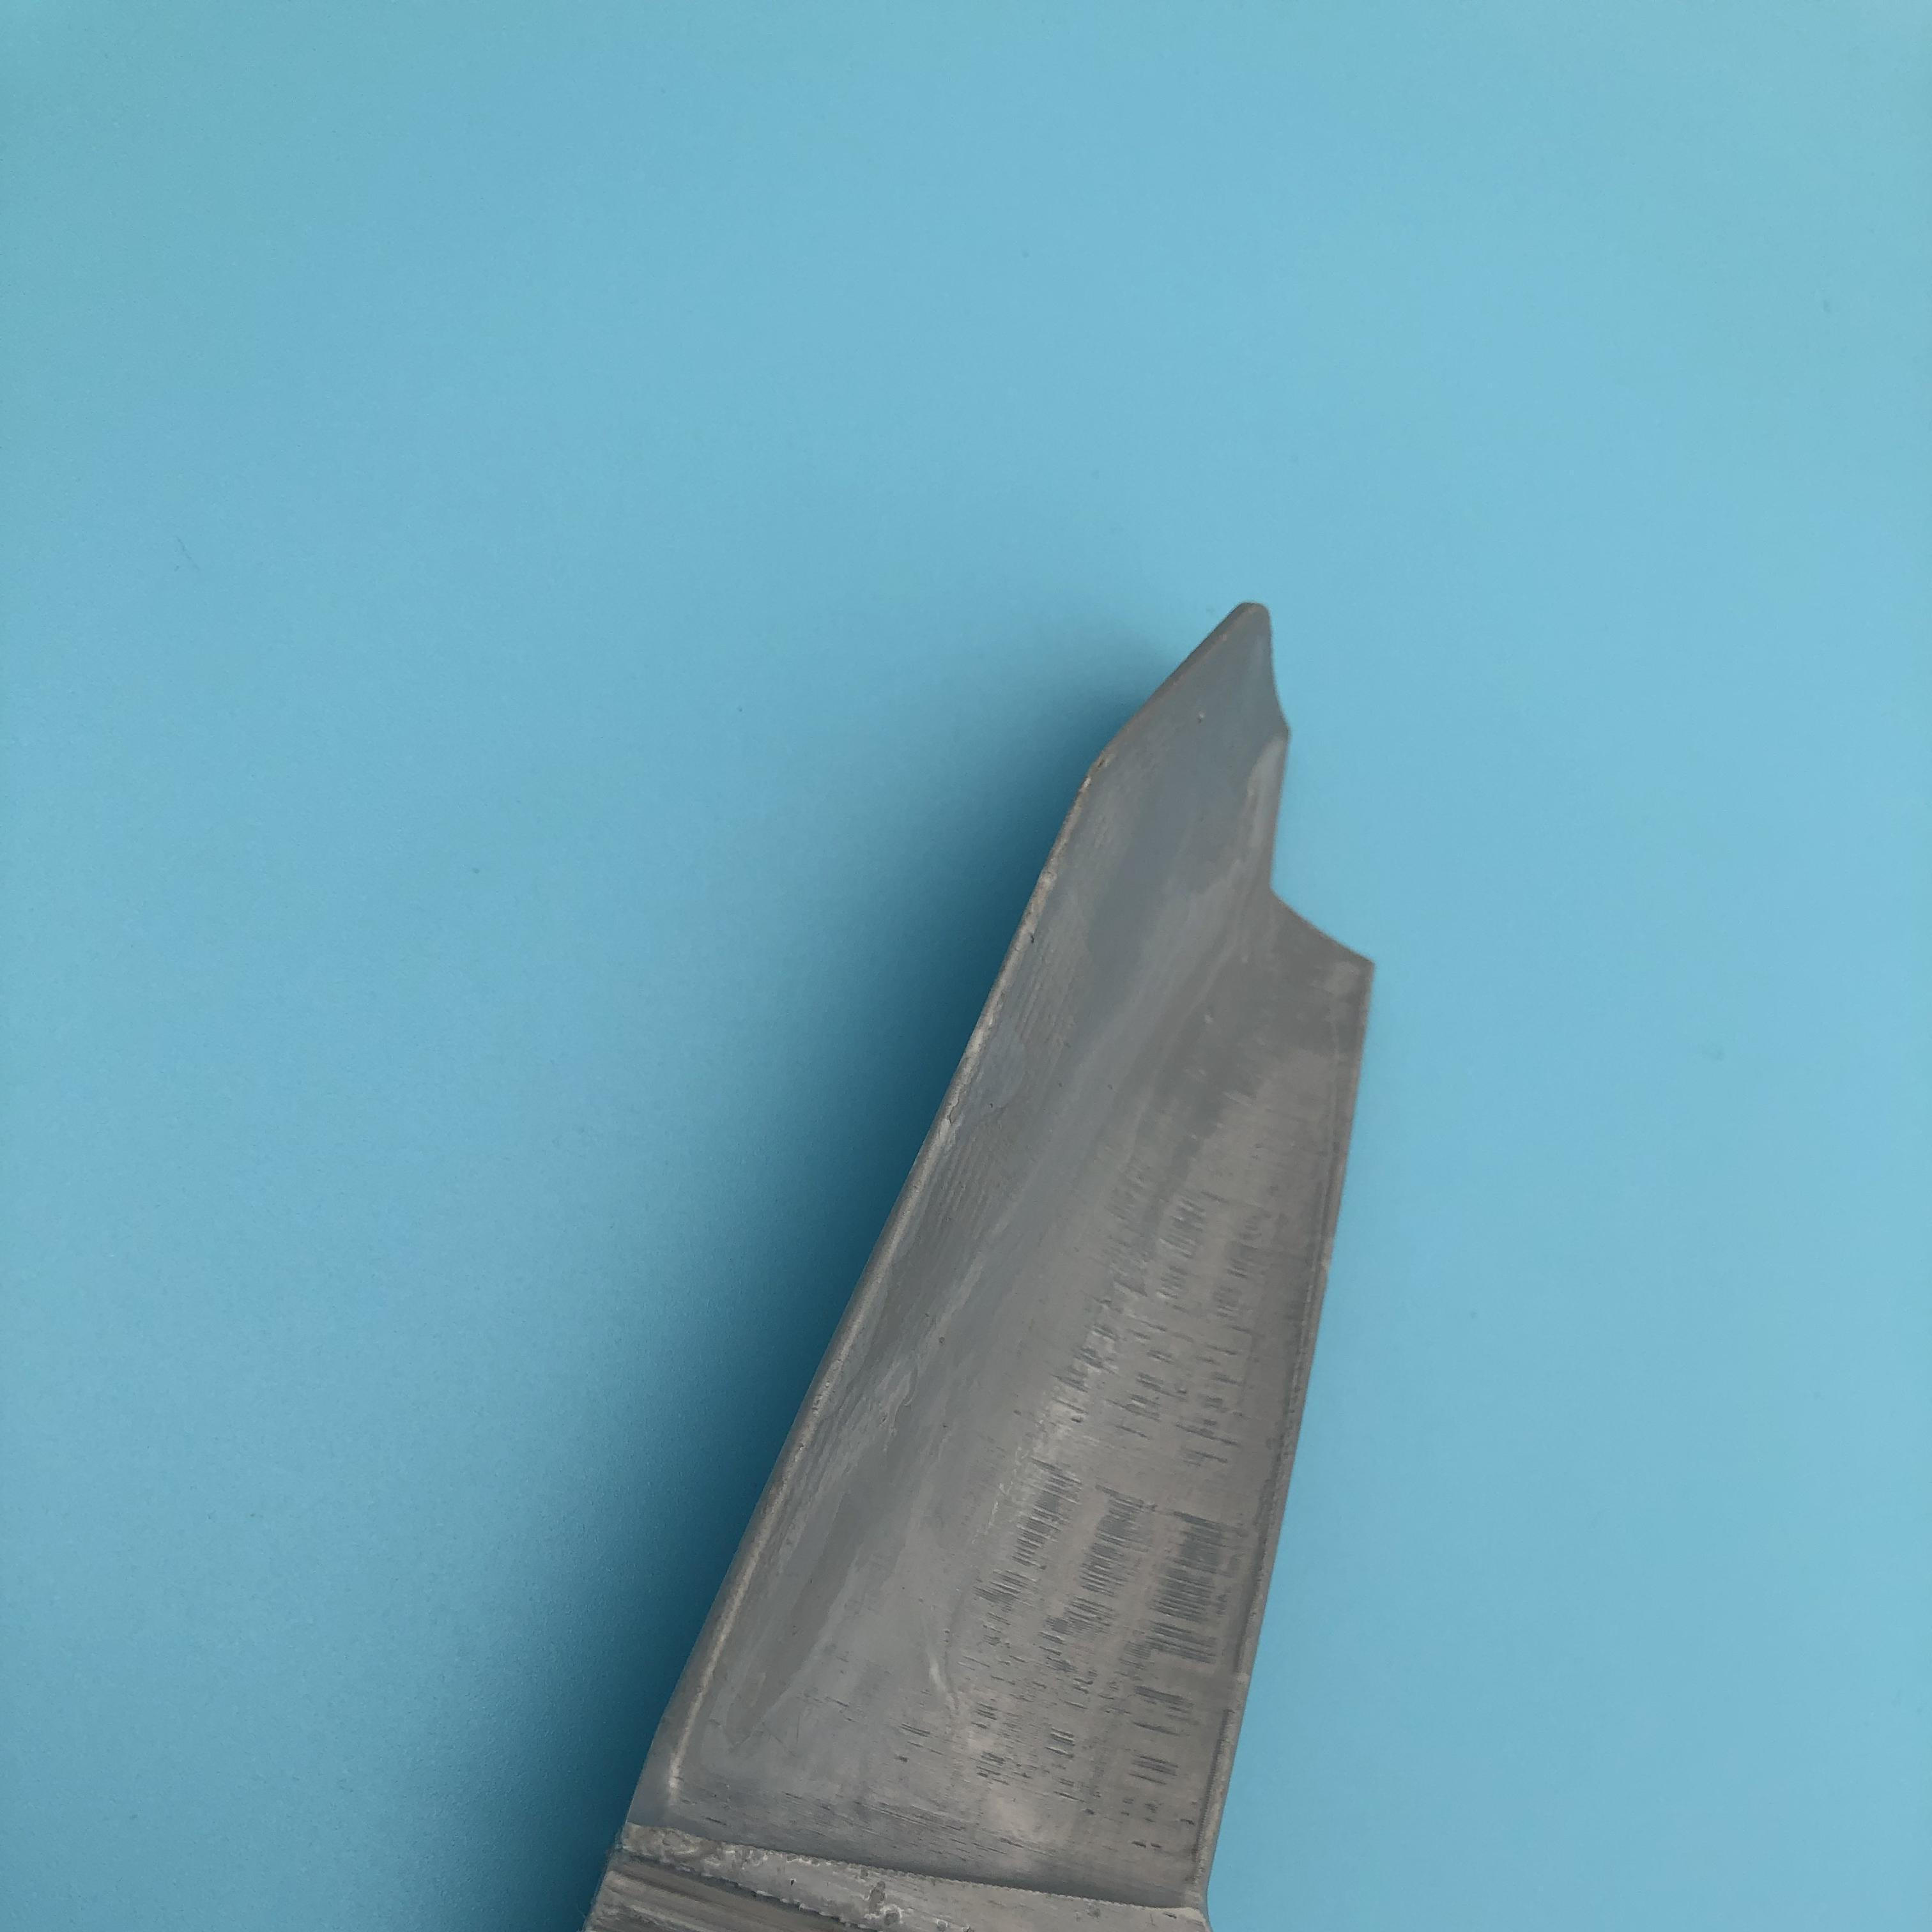fracture: (1263, 639, 1391, 1031)
